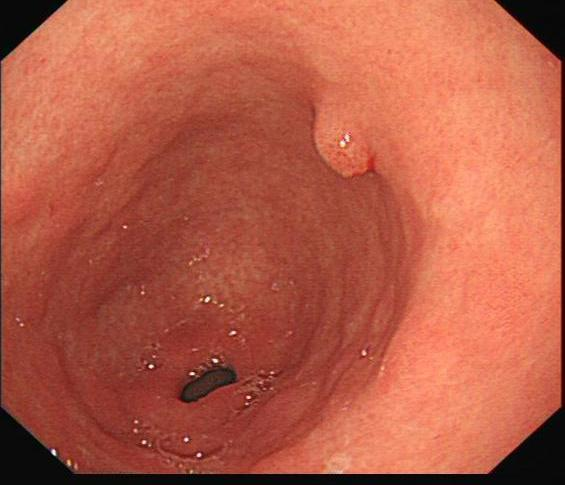Polyp: (307, 108, 384, 181)
